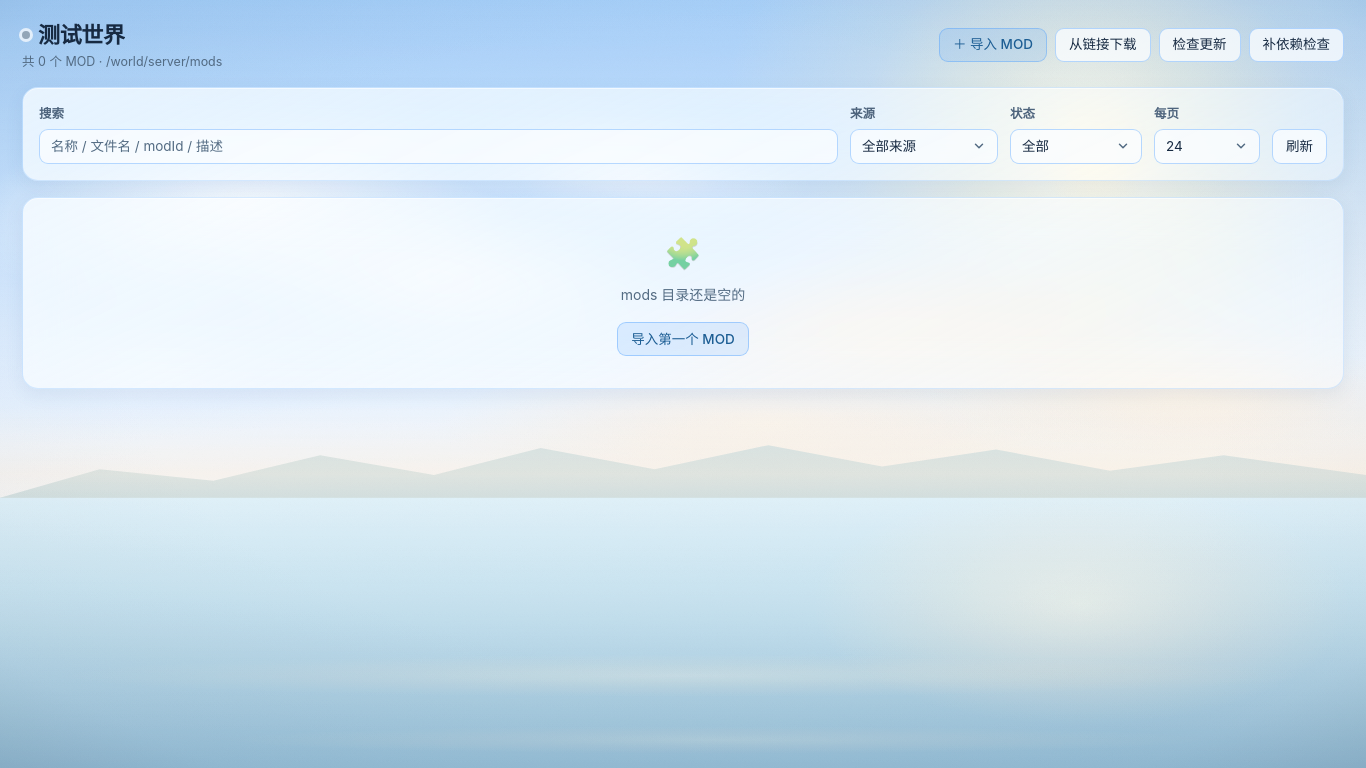
MOD 页空状态 › 搜索无结果时说明没有匹配项，清除筛选后仍区分空目录
The image size is (1366, 768).
Type "missing-mod" into the field with placeholder "名称 / 文件名 / modId / 描述" at (438, 146), box [39,129,838,164]
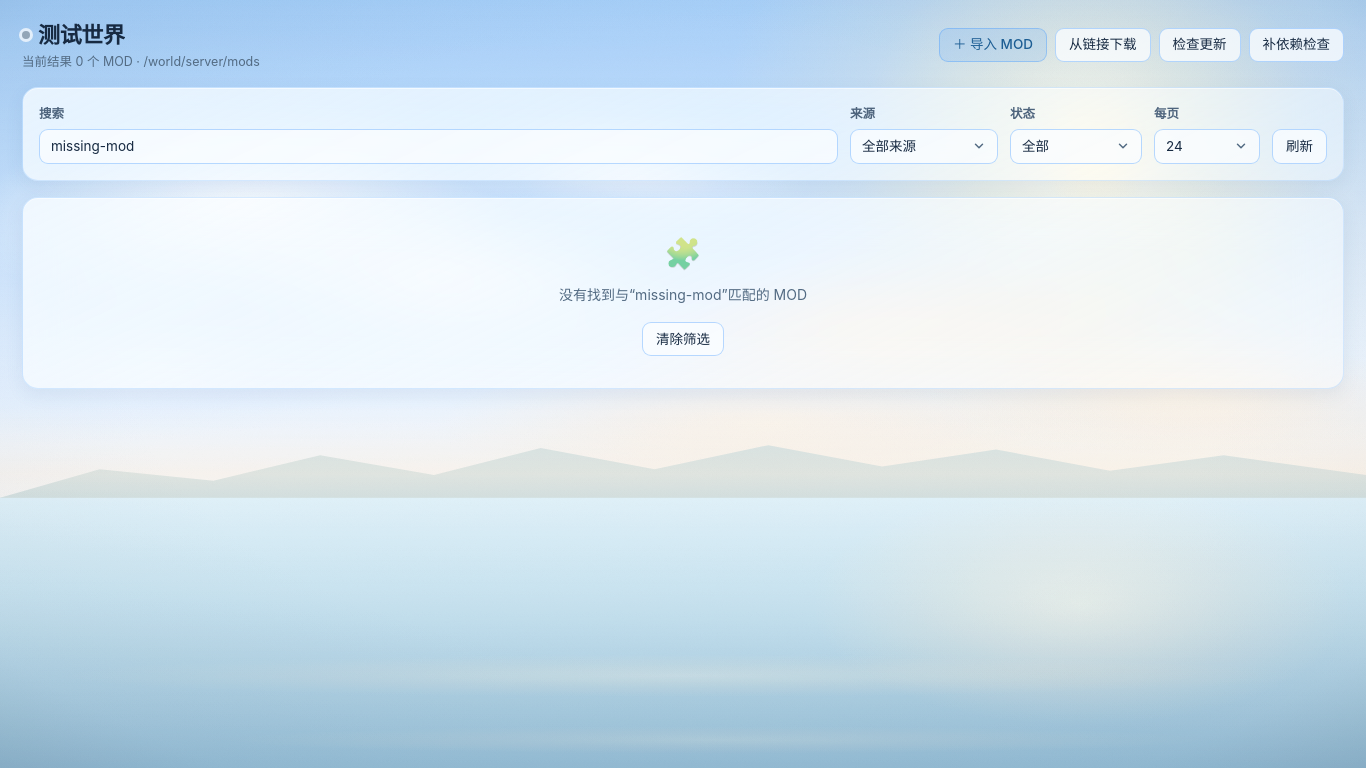
Expected: the text "没有找到与“missing-mod”匹配的 MOD" is shown, [559,284,807,306]
Expected: the text "当前结果 0 个 MOD" is shown, [22,54,133,69]
Expected: the text "清除筛选" is shown
Click the button "清除筛选" at (683, 339), box [642,322,724,356]
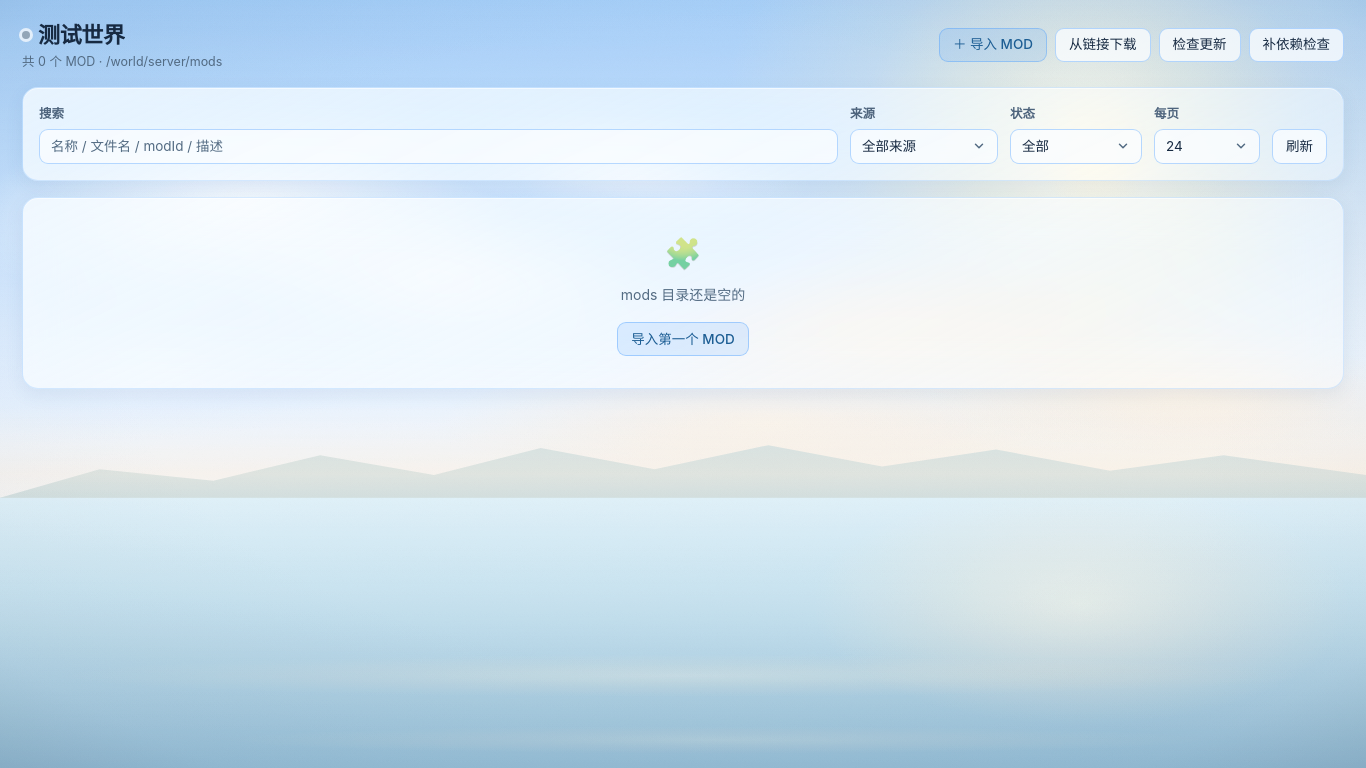
Expected: the field with placeholder "名称 / 文件名 / modId / 描述" is empty, [39,129,838,164]
Expected: the text "mods 目录还是空的" is shown, [621,284,745,306]
